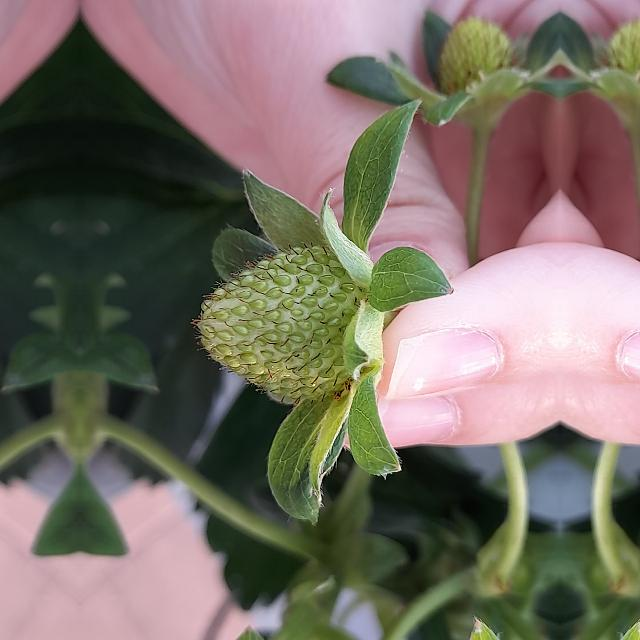Health_25: (190, 242, 372, 404)
